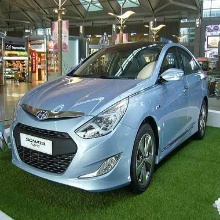no damage: (10, 42, 208, 193)
